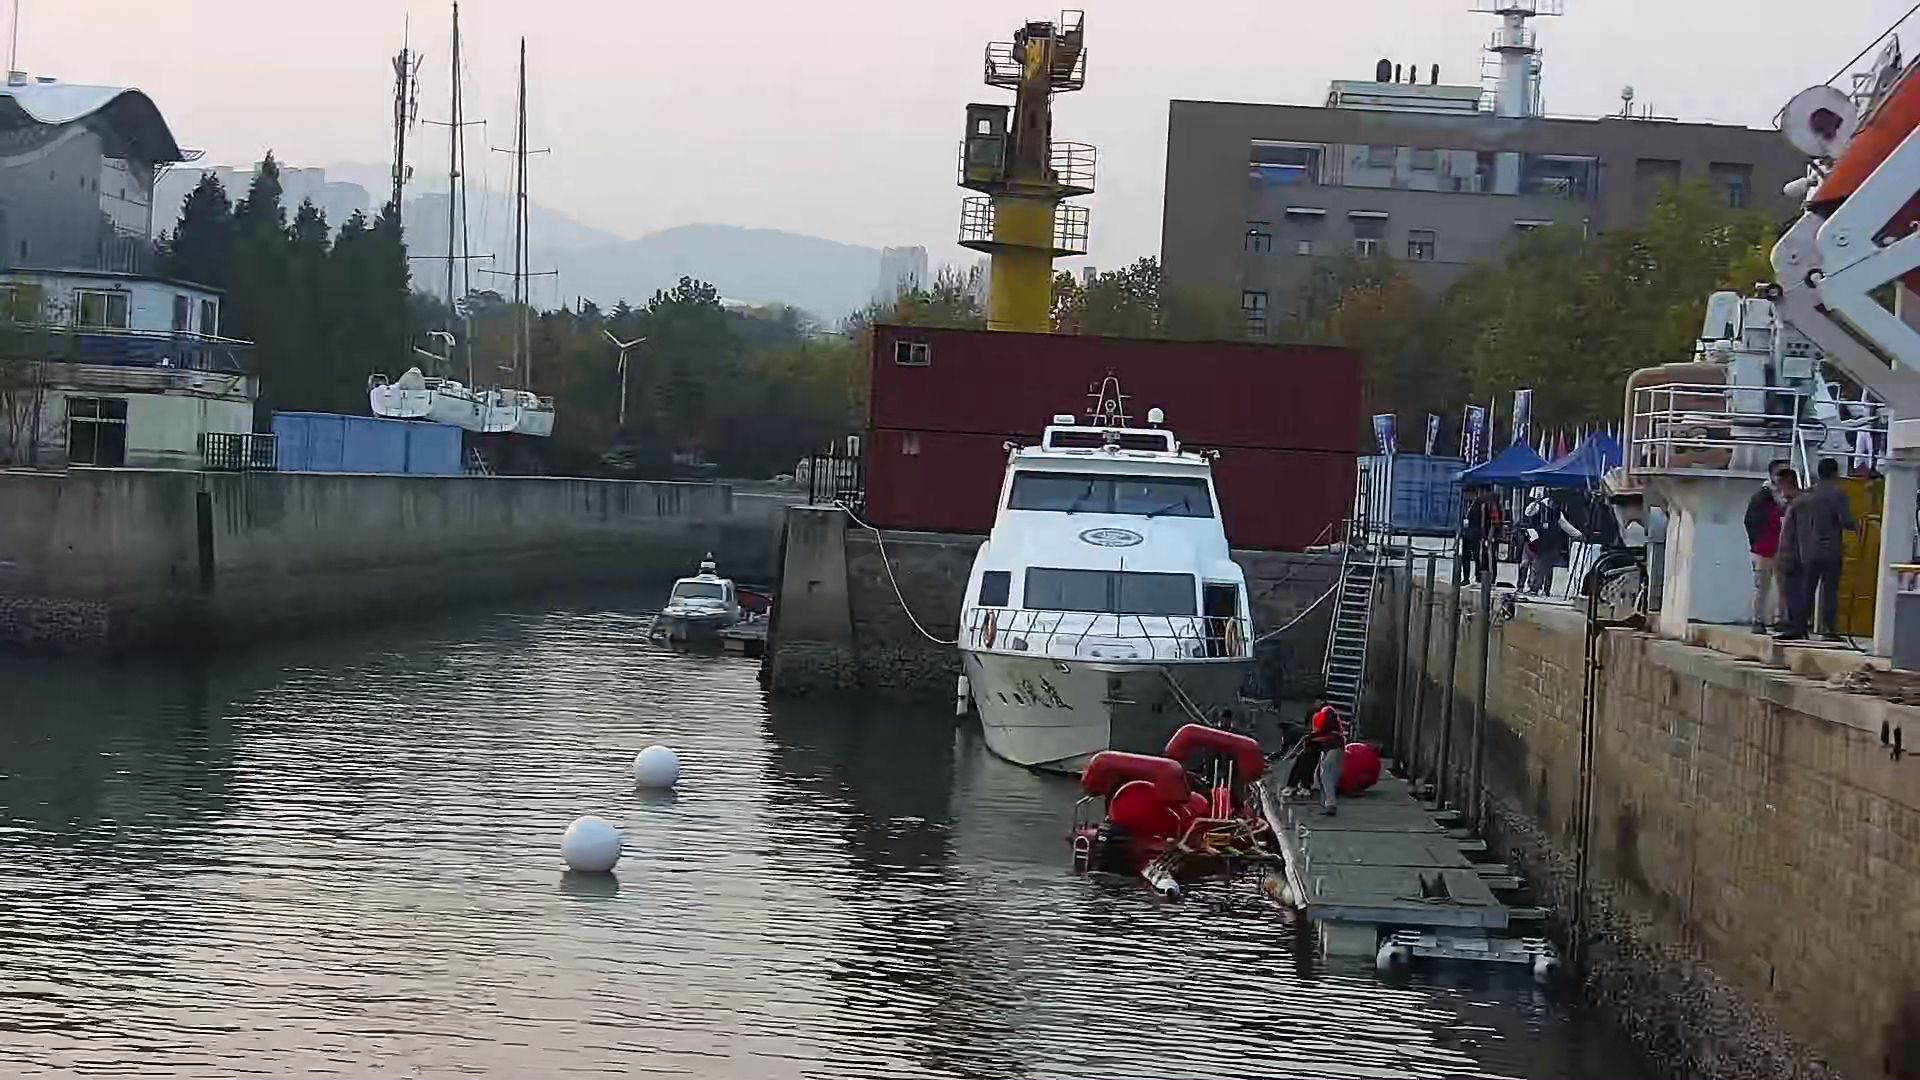ball: (558, 812, 626, 874), (634, 744, 685, 787)
boat: (1148, 836, 1299, 912)
harbor: (1255, 701, 1547, 985)
person: (1296, 685, 1349, 820)
ship: (953, 408, 1264, 788), (650, 556, 743, 645)
